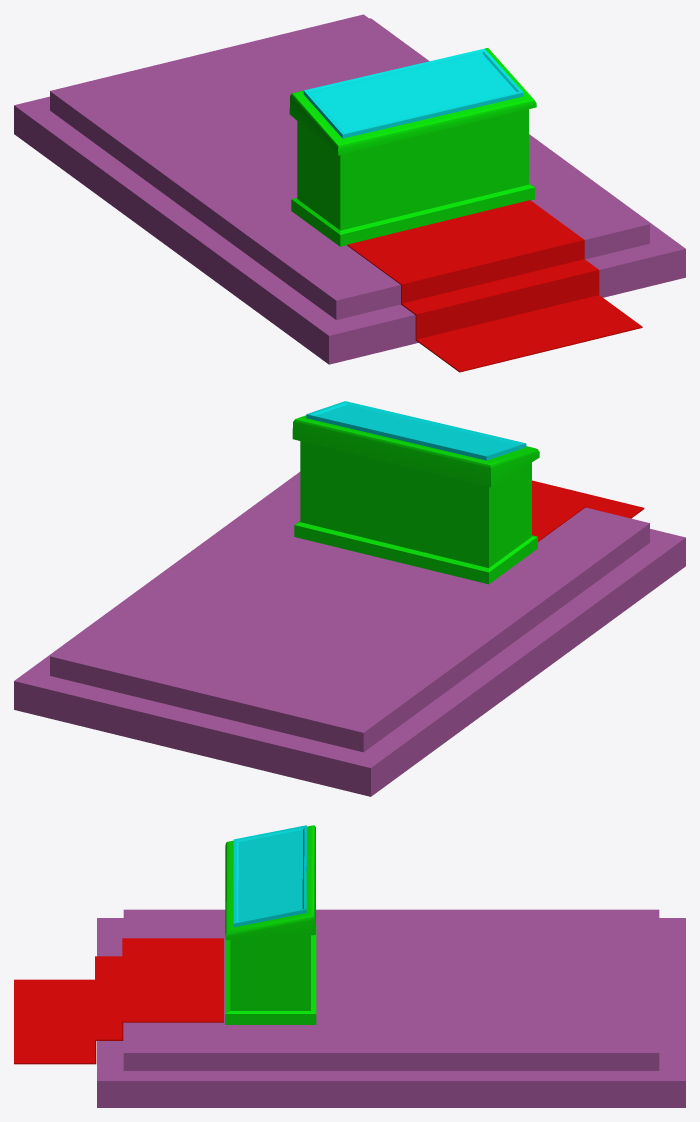
File: Cripta_Altar.fbx
3 renders of one model, top to bottom at view 1: azimuth 30°, elevation 25°; view 2: azimuth 150°, elevation 25°; view 3: azimuth 270°, elevation 25°, orthographic. The views are drawn at different scales.
Visible parts, largest first — view 1: Altar_Escadas, Altar_Tapete, Altar_Mesa, Altar_Placa; view 2: Altar_Escadas, Altar_Mesa, Altar_Placa, Altar_Tapete; view 3: Altar_Escadas, Altar_Tapete, Altar_Mesa, Altar_Placa.
Part boxes in pixels (left/top/right/bottom): Altar_Escadas: left=14, top=14, right=685, bottom=364; Altar_Tapete: left=347, top=200, right=642, bottom=372; Altar_Mesa: left=289, top=48, right=536, bottom=246; Altar_Placa: left=303, top=48, right=523, bottom=138; Altar_Escadas: left=14, top=472, right=685, bottom=796; Altar_Mesa: left=292, top=415, right=539, bottom=584; Altar_Placa: left=306, top=401, right=526, bottom=460; Altar_Tapete: left=532, top=480, right=644, bottom=541; Altar_Escadas: left=97, top=909, right=685, bottom=1107; Altar_Tapete: left=14, top=938, right=223, bottom=1064; Altar_Mesa: left=225, top=825, right=316, bottom=1024; Altar_Placa: left=233, top=825, right=306, bottom=927.
Size of the model in its own units: 335 by 153 by 585.
